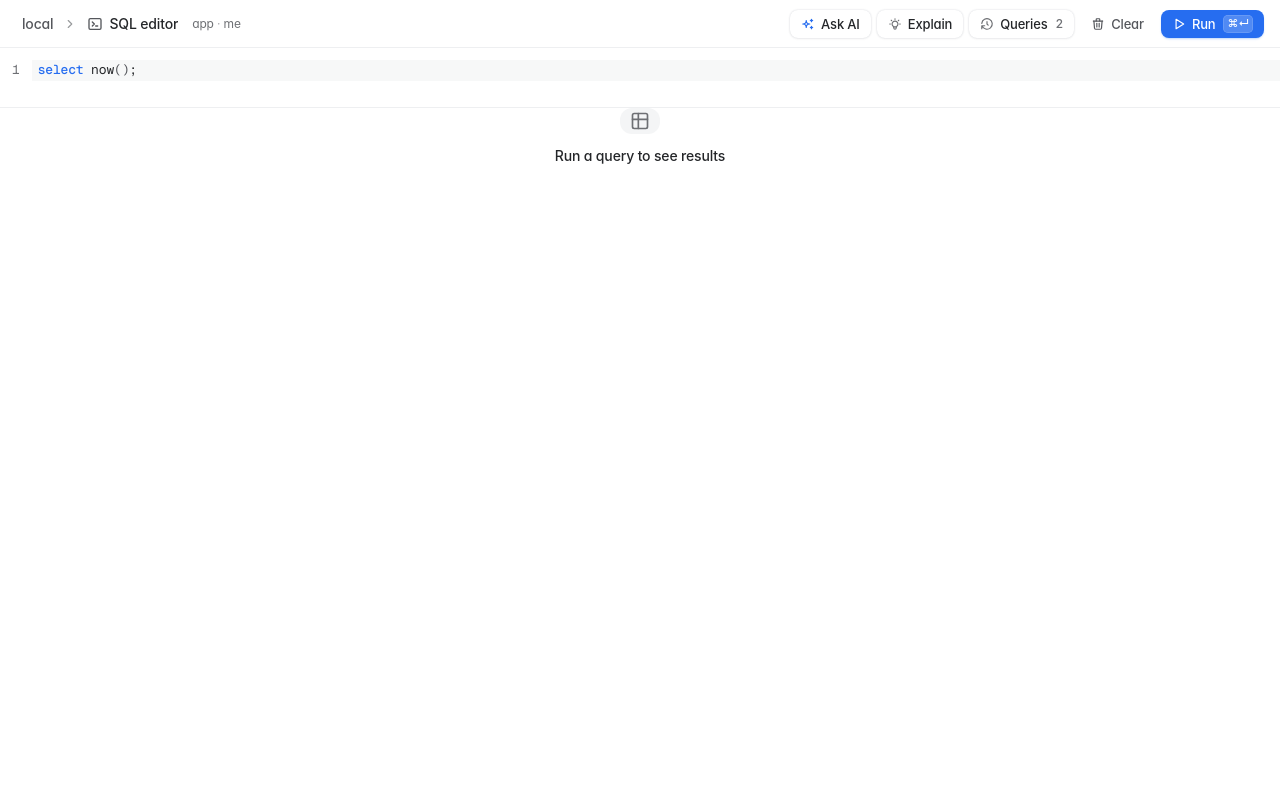
Test case: the query library › shows what main returned, split into saved and recent
Expected: the element with test id "sql-editor" is shown, [0, 48, 1279, 107]
Click the button "Queries 2": [1022, 24] box [969, 10, 1074, 38]
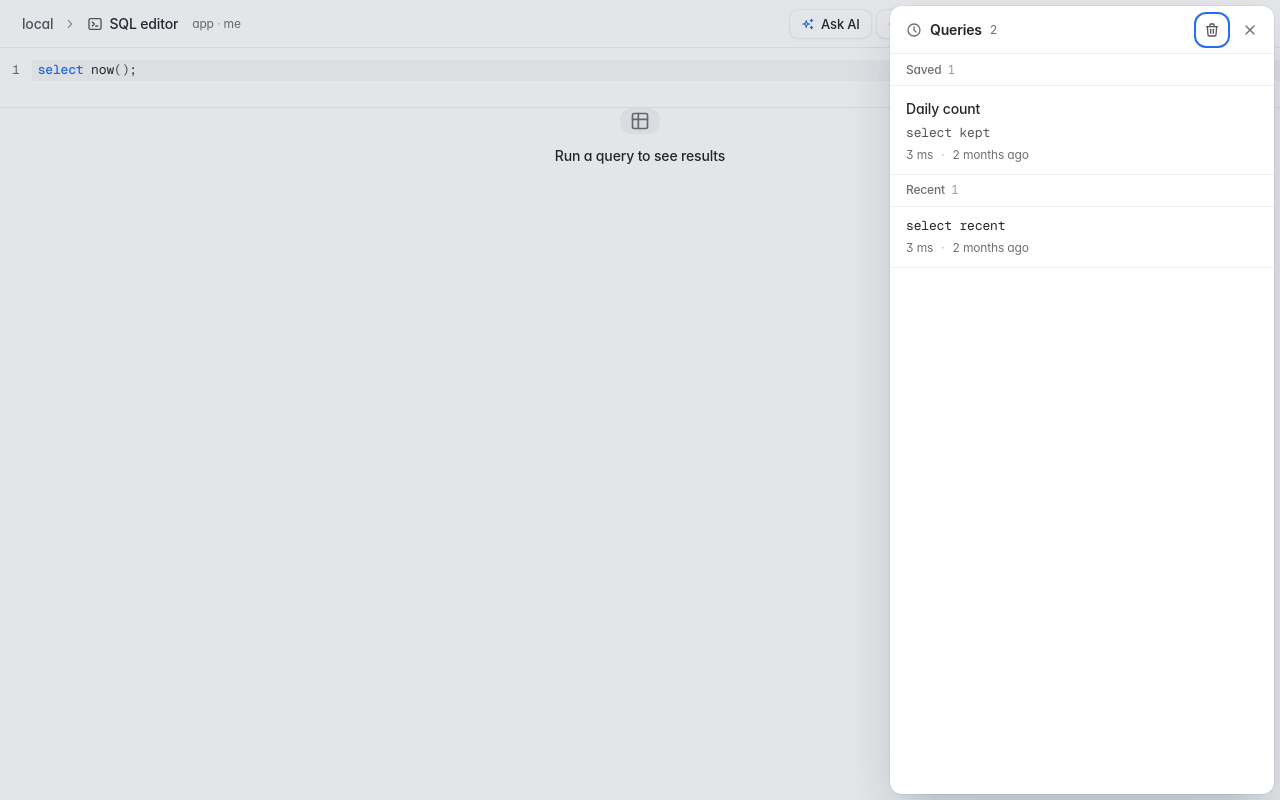
Now the text "Saved" is shown, box [906, 60, 942, 78]
Now the text "Recent" is shown, box [906, 181, 945, 199]
Now the field named "Query name" holds "Daily count", box [902, 99, 1210, 119]
